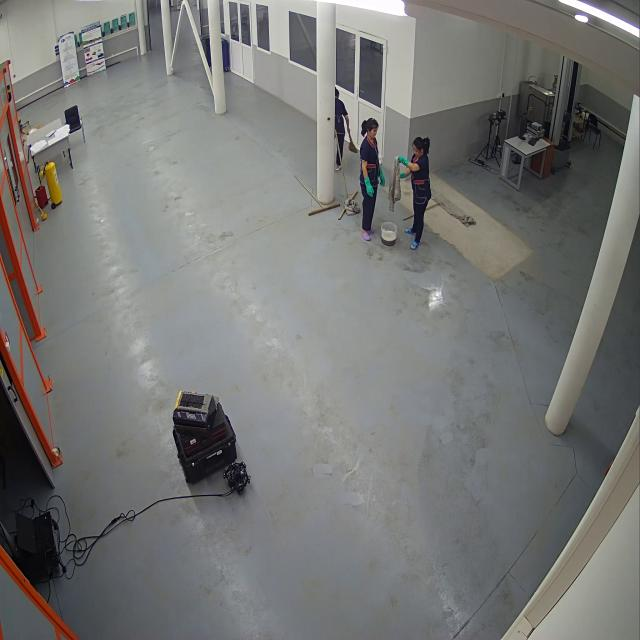NO-Hardhat: (363, 116, 381, 131), (413, 135, 432, 148), (336, 86, 342, 96)
Person: (399, 133, 433, 254), (359, 117, 389, 245), (335, 85, 360, 171)
